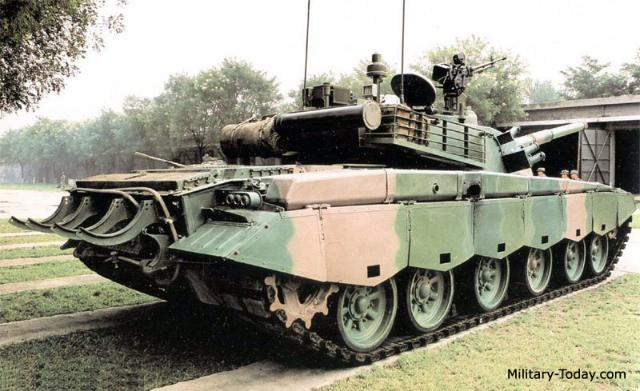other: (60, 171, 66, 191), (536, 167, 546, 175), (569, 170, 579, 178), (560, 170, 568, 178)
tank: (55, 74, 628, 311)
